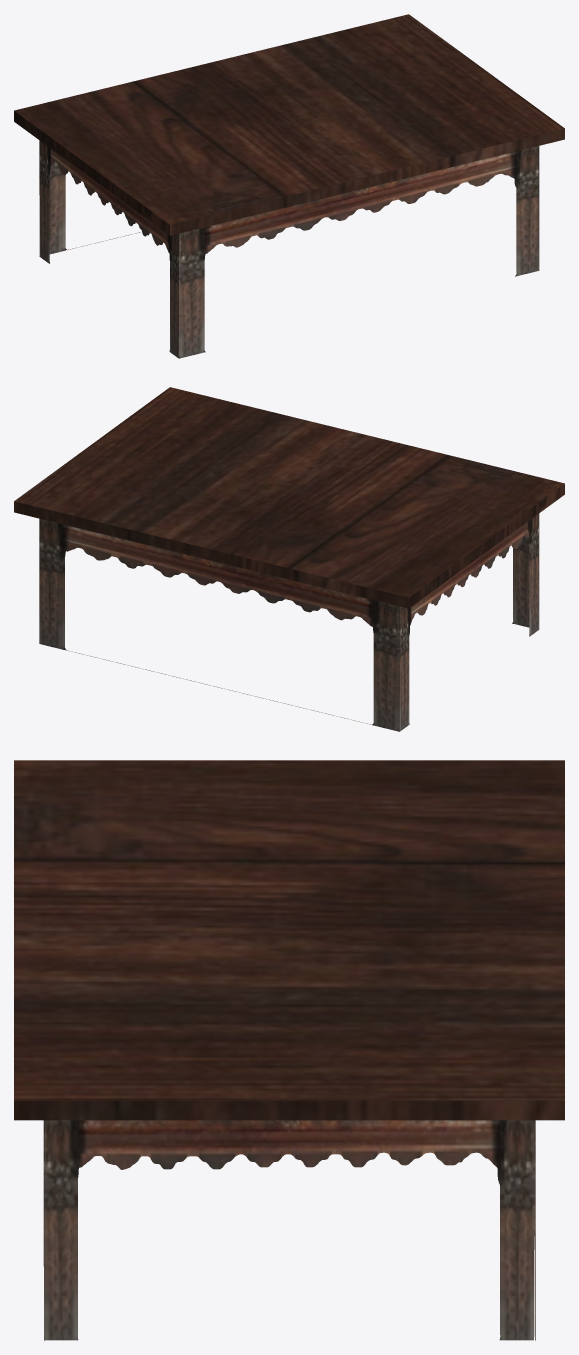
File: table.fbx
3 views of the same model, one above another, from view 1: azimuth 30°, elevation 25°; view 2: azimuth 150°, elevation 25°; view 3: azimuth 270°, elevation 25° (orthographic). The views are drawn at different scales.
Visible parts, largest first — view 1: table; view 2: table; view 3: table.
Part boxes in pixels (x1,y1,x2,y2): table: (14, 14, 564, 358); table: (14, 387, 564, 731); table: (14, 760, 564, 1340).
Bounding box in the file's own units: 219 × 76.56 × 150.
